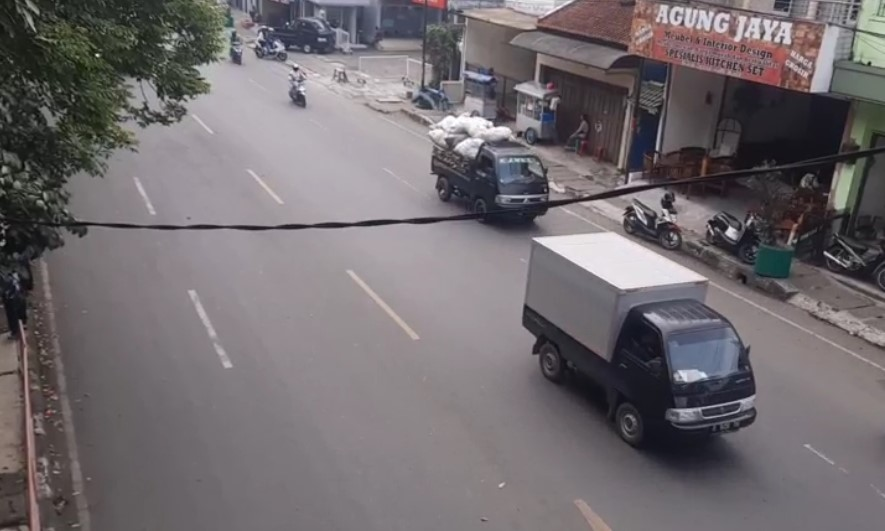mobil: (524, 229, 762, 455), (422, 116, 555, 232)
